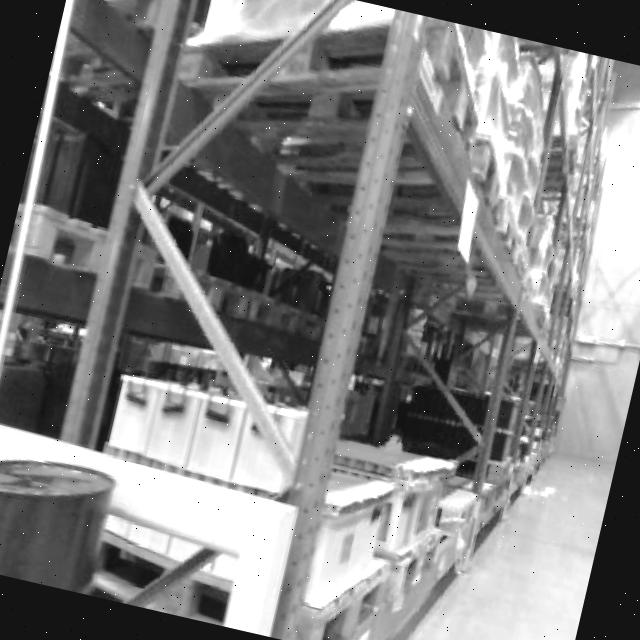ground: (363, 415, 614, 640)
pallet: (0, 418, 306, 636)
